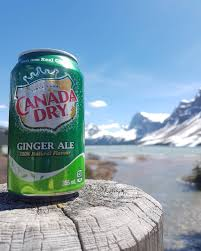Lata: (6, 47, 88, 202)
